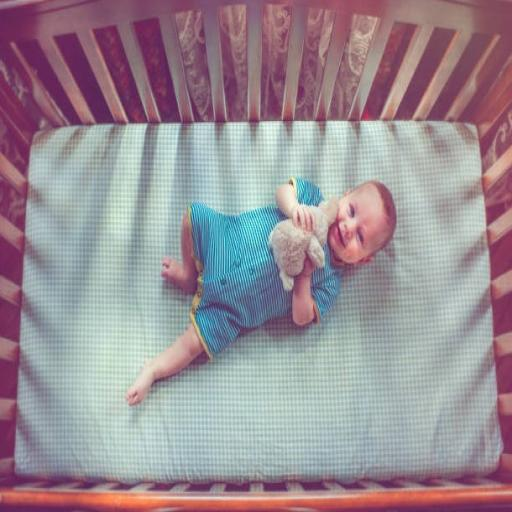baby: (126, 178, 396, 406)
crib: (0, 0, 511, 509)
